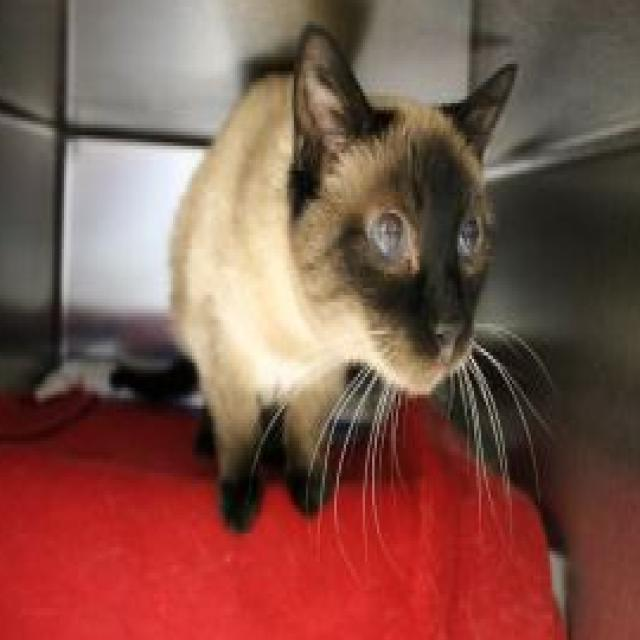Siamese: (106, 13, 524, 540)
